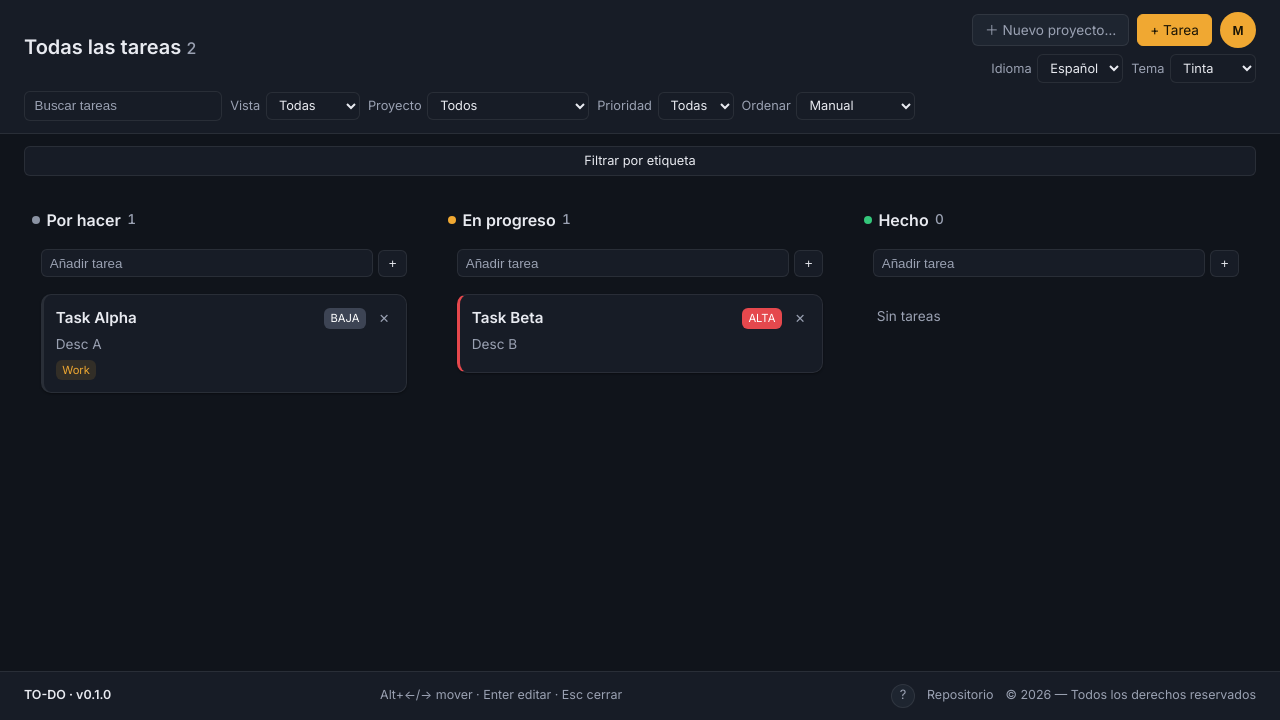
it: TodoListPage Kanban (through the repository seam) › pauses the auto-dismiss while the undo button is focused
expect the text "Task Alpha" is shown: met, box left=56, top=308, right=137, bottom=327
Click the button named "Borrar tarea" at (384, 318), box left=374, top=309, right=394, bottom=328
Wait 10000 ms
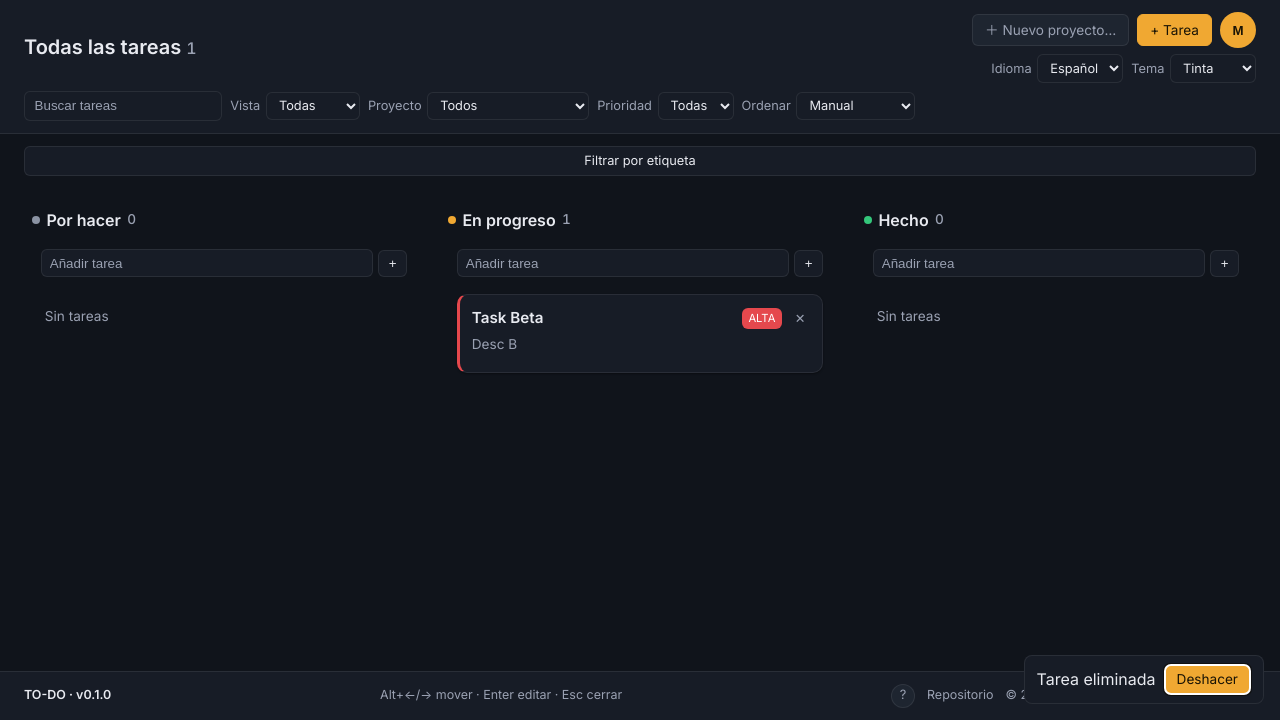
expect the button "Deshacer" is shown: met
# Blurred: the timer resumes and dismisses it.
Leave the button "Deshacer", box left=1164, top=664, right=1251, bottom=695
Wait 10000 ms
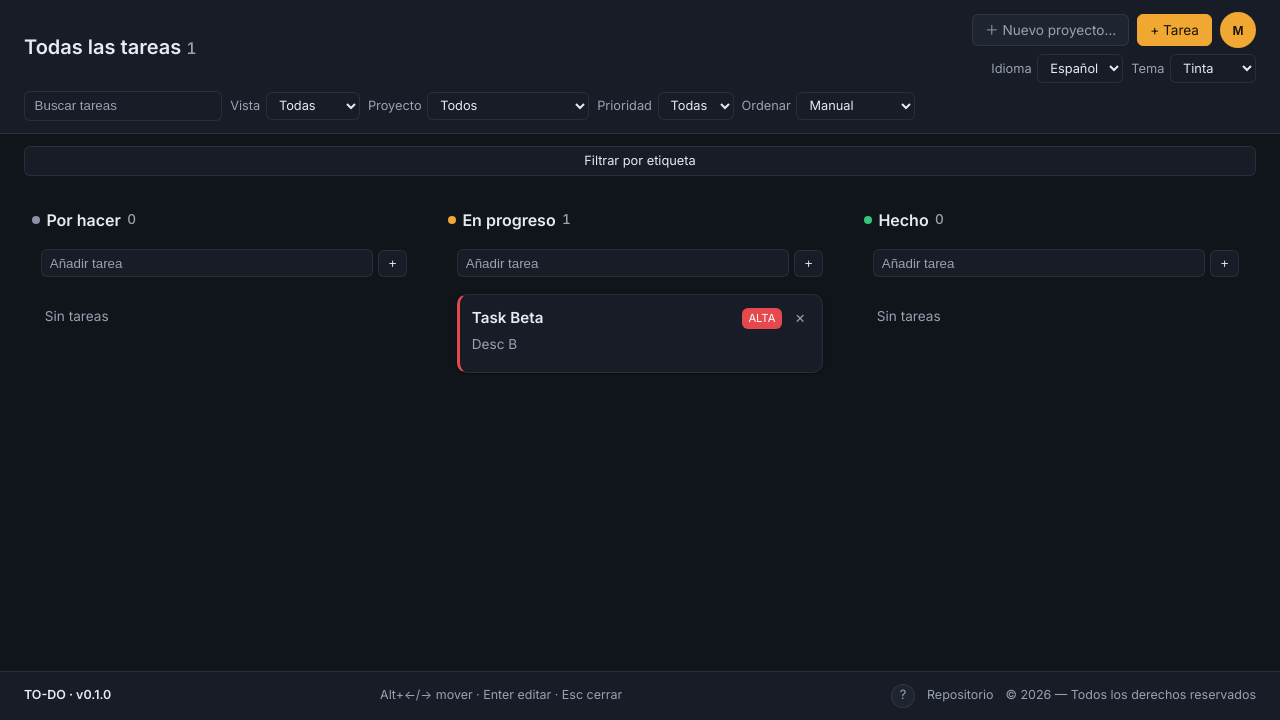
expect the button "Deshacer" is gone: met
